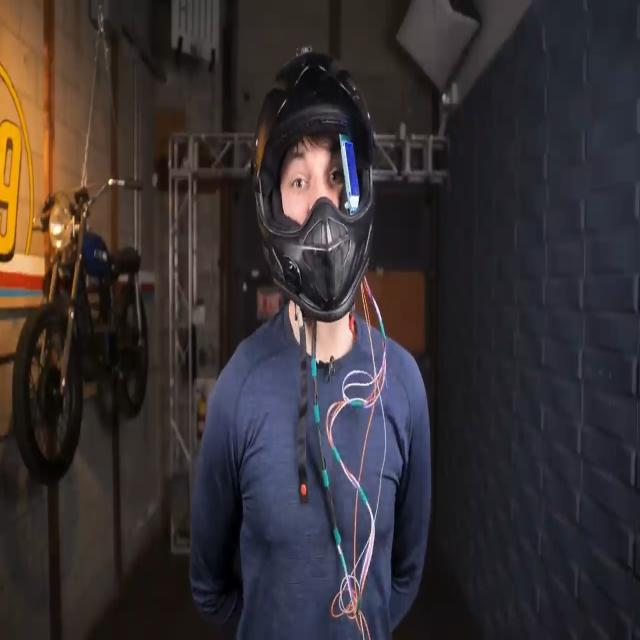Helmet_Wearer: (244, 50, 390, 308)
Person: (187, 47, 434, 640)
